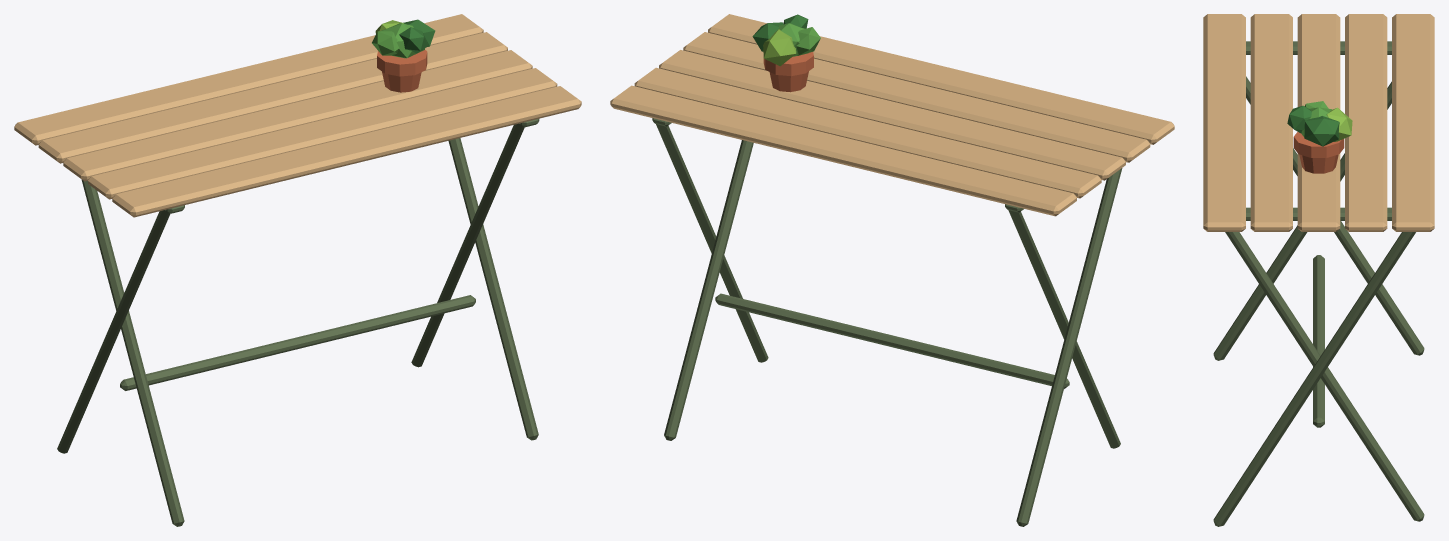
File: outdoor_table.glb
3 renders of one model, left to right at view 1: azimuth 30°, elevation 25°; view 2: azimuth 150°, elevation 25°; view 3: azimuth 270°, elevation 25°, orthographic. The views are drawn at different scales.
Visible parts, largest first — view 1: outdoor_table_Body; view 2: outdoor_table_Body; view 3: outdoor_table_Body.
Boxes of the visible parts, x1,y1,x2,y2 form: outdoor_table_Body: (14,14,581,526); outdoor_table_Body: (610,14,1174,526); outdoor_table_Body: (1203,14,1434,526).
Bounding box in the file's own units: 1.3 × 1.1 × 0.6.
